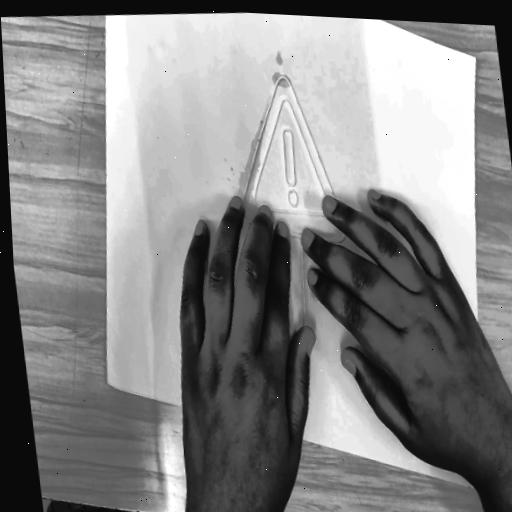bottom_left: (475, 474, 487, 494)
bottom_right: (101, 374, 111, 388)
signboard: (228, 56, 353, 388)
top_left: (471, 52, 480, 69)
